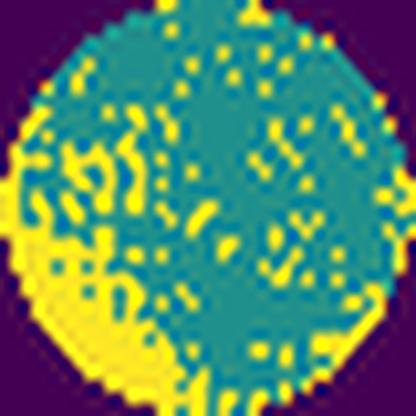Edge-Loc: (0, 92, 206, 416)
